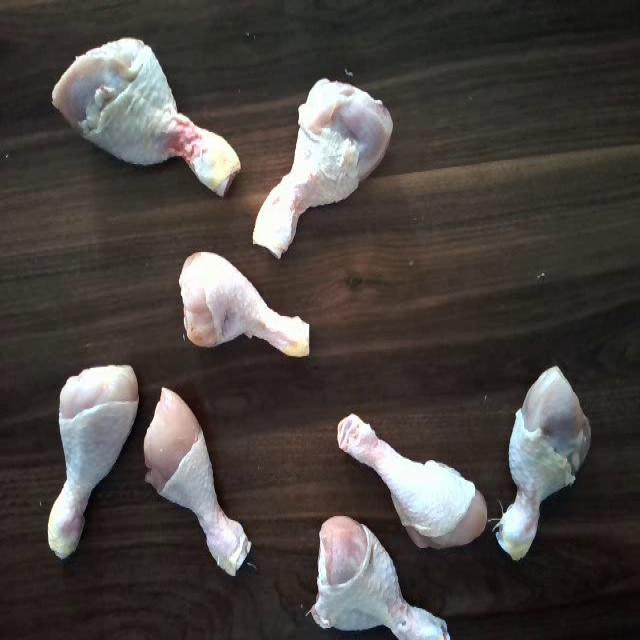leg: (57, 26, 241, 199), (248, 64, 399, 265), (134, 383, 256, 576), (300, 499, 454, 640), (333, 410, 488, 550), (493, 358, 596, 566), (44, 349, 144, 561), (168, 250, 316, 364)
